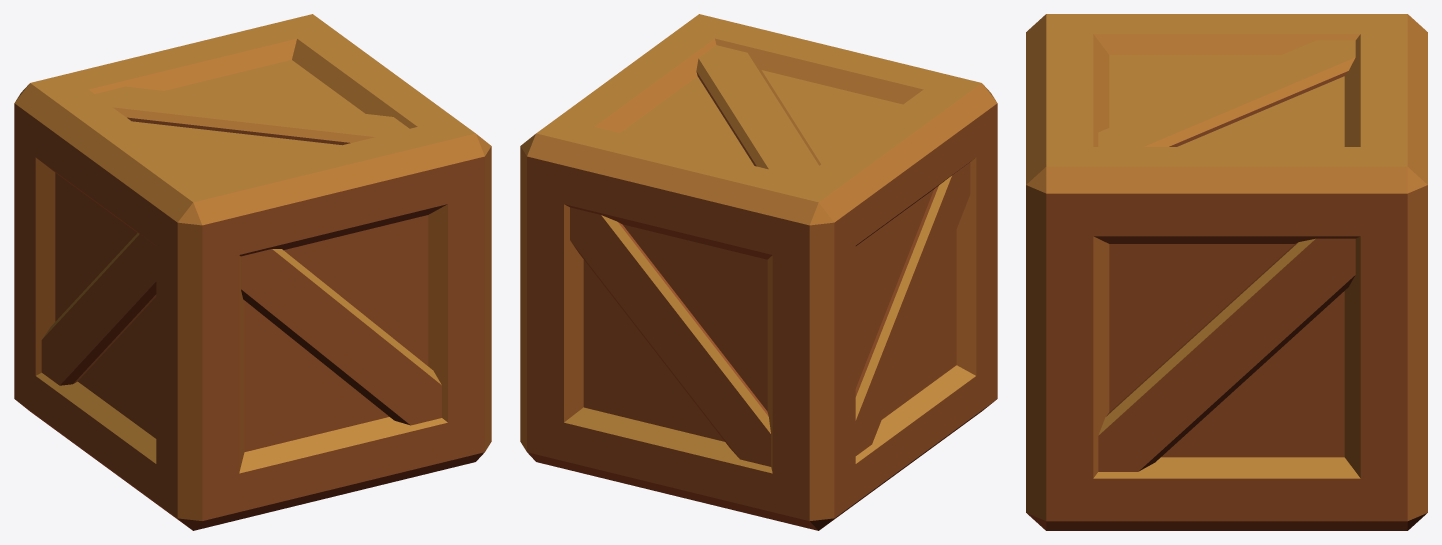
Rendered from m_deco_crate.FBX.
3 renders of one model, left to right at view 1: azimuth 30°, elevation 25°; view 2: azimuth 150°, elevation 25°; view 3: azimuth 270°, elevation 25°, orthographic. The views are drawn at different scales.
Parts seen in each view (by area): view 1: m_deco_crate; view 2: m_deco_crate; view 3: m_deco_crate.
Boxes of the visible parts, x1,y1,x2,y2 form: m_deco_crate: (14,14,491,530); m_deco_crate: (520,14,997,530); m_deco_crate: (1026,14,1427,530).
Bounding box in the file's own units: 2 × 2 × 2.
